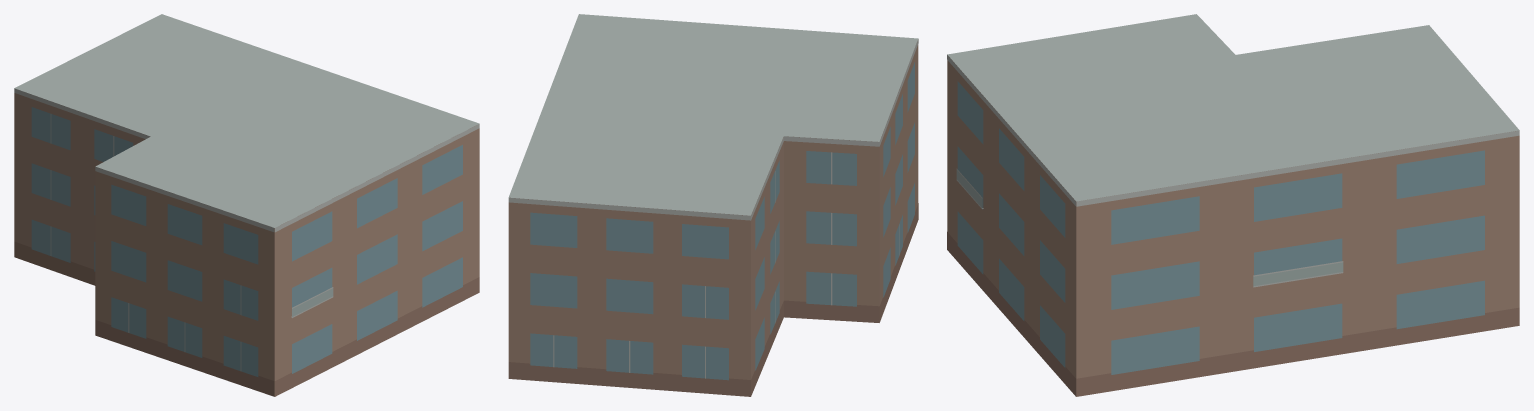
File: survey-upis-32835373.glb
The picture shows the model from 3 angles, left to right: view 1: azimuth 30°, elevation 25°; view 2: azimuth 150°, elevation 25°; view 3: azimuth 270°, elevation 25°; orthographic projection. The views are drawn at different scales.
Visible parts, largest first — view 1: survey-upis-32835373.tmp; view 2: survey-upis-32835373.tmp; view 3: survey-upis-32835373.tmp.
Part boxes in pixels (bbox=[...]): survey-upis-32835373.tmp: bbox=[14, 14, 479, 396]; survey-upis-32835373.tmp: bbox=[508, 14, 918, 396]; survey-upis-32835373.tmp: bbox=[947, 14, 1519, 396].
Bounding box in the file's own units: 18.86 × 9.15 × 24.32.
